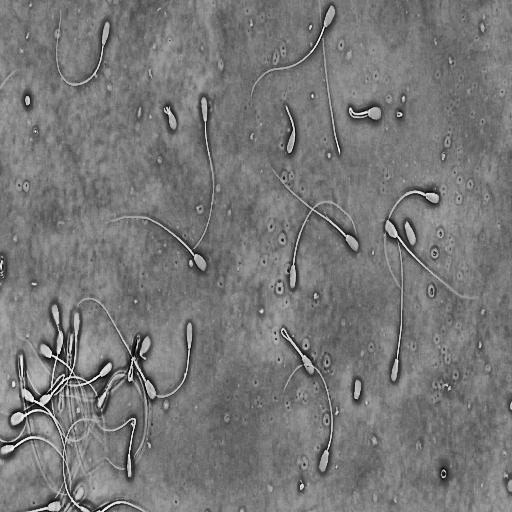coiled-tail: (128, 337, 141, 381), (164, 105, 170, 115)
dirt-particles: (22, 91, 33, 110), (439, 467, 449, 482), (395, 108, 404, 120)
folded-tail: (92, 415, 138, 455), (281, 328, 304, 357), (349, 105, 368, 120), (286, 107, 295, 130)
loose-head: (403, 219, 417, 248), (139, 334, 152, 361), (353, 377, 363, 403)
loose-tail: (317, 0, 344, 159)
normal: (74, 293, 159, 403), (249, 4, 337, 106), (269, 162, 361, 255), (382, 217, 482, 302), (382, 188, 441, 303), (107, 211, 209, 276), (289, 196, 360, 289), (279, 360, 335, 476), (15, 309, 81, 399), (9, 408, 69, 503), (96, 370, 150, 470), (0, 433, 73, 505), (185, 96, 217, 254), (22, 334, 112, 389), (54, 6, 111, 87), (49, 327, 89, 442), (139, 321, 194, 402), (93, 415, 138, 481), (50, 353, 82, 442), (389, 236, 404, 382), (279, 322, 316, 378), (127, 332, 142, 384), (347, 102, 383, 122), (285, 103, 297, 155), (163, 102, 178, 132)
